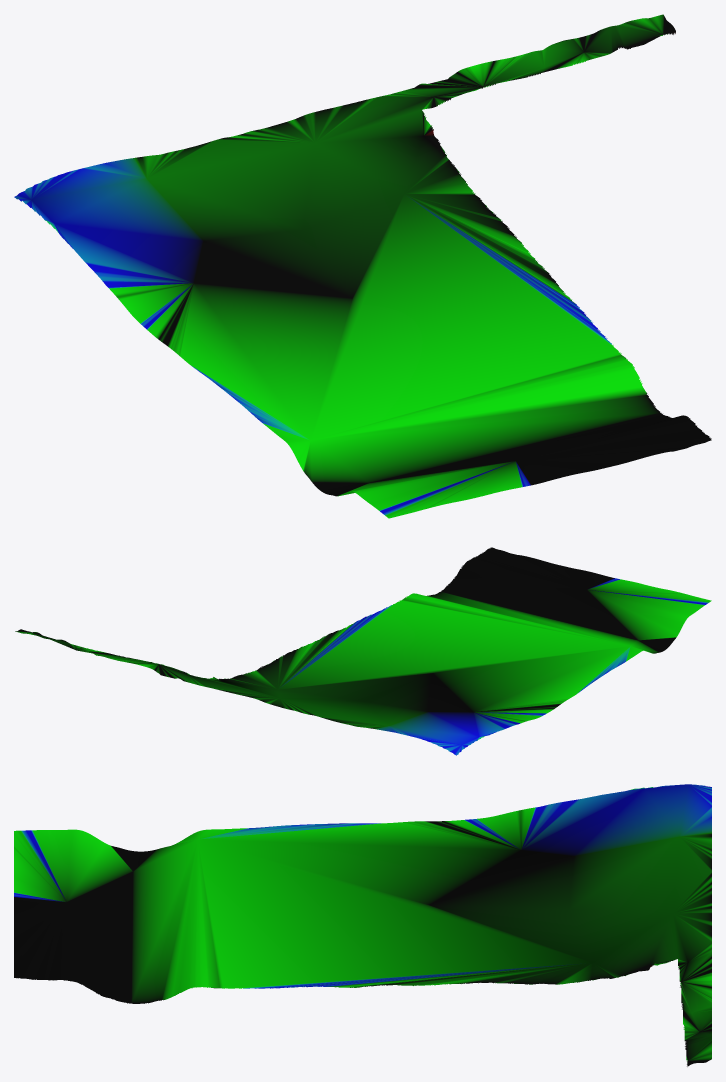
Rendered from N_1_1_anel.glb.
3 renders of one model, top to bottom at view 1: azimuth 30°, elevation 25°; view 2: azimuth 150°, elevation 25°; view 3: azimuth 270°, elevation 25°, orthographic. The views are drawn at different scales.
Parts seen in each view (by area): view 1: N_1_1; view 2: N_1_1; view 3: N_1_1.
Part boxes in pixels (x1,y1,x2,y2): N_1_1: [14, 14, 711, 518]; N_1_1: [15, 547, 711, 755]; N_1_1: [14, 784, 711, 1066].
Size of the model in its own units: 256 by 35.85 by 256.
